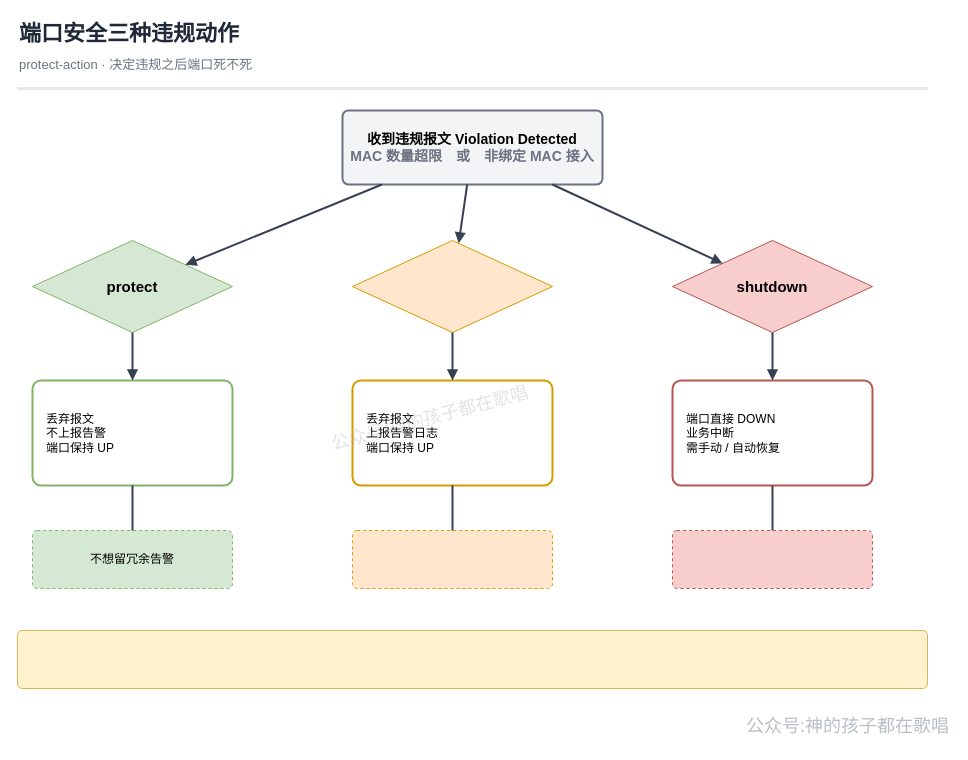
Image size: 968x760. Some labels were removed from this diagram. The centre of each missing label's shape, as x and y in pixels:
"restrict" goes at (x=452, y=286).
"⚠ 不配 protect-action 时，华为默认就是 shutdown —— 违规一次端口就 down，生产环境务必显式指定" goes at (x=472, y=659).
"⚠ 华为默认动作" goes at (x=772, y=559).
"要审计、留证据 ★推荐" goes at (x=452, y=559).
